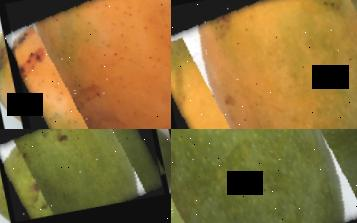PartiallyRipe: (171, 0, 357, 129)
Ripe: (1, 0, 171, 129)
Unripe: (171, 129, 357, 223), (0, 129, 165, 222)
